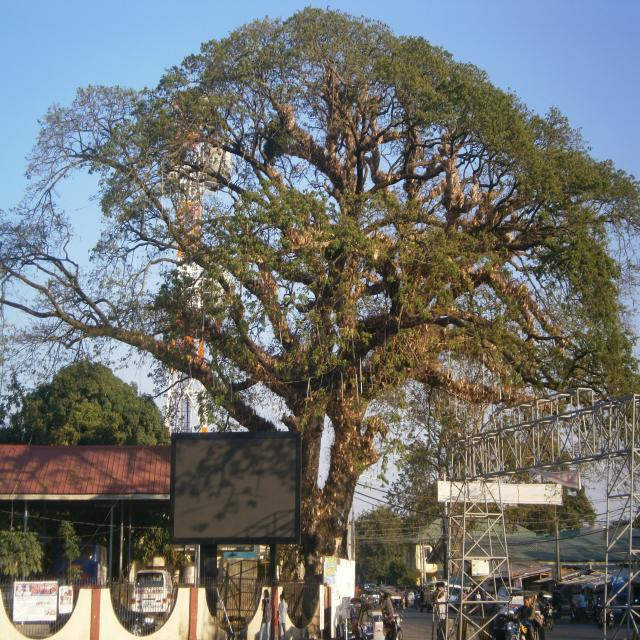Acacia: (40, 4, 640, 445)
